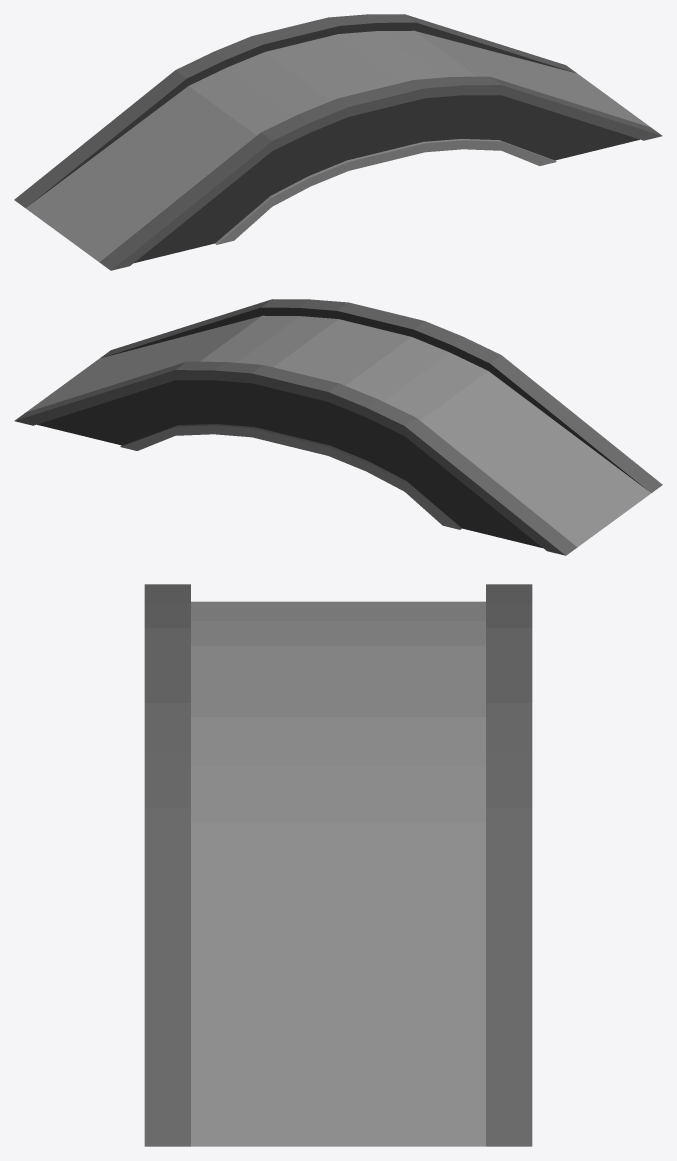
Rendered from bridge.glb.
3 views of the same model, one above another, from view 1: azimuth 30°, elevation 25°; view 2: azimuth 150°, elevation 25°; view 3: azimuth 270°, elevation 25° (orthographic). The views are drawn at different scales.
Visible parts, largest first — view 1: Cube; view 2: Cube; view 3: Cube.
Part boxes in pixels (<box>): Cube: <box>14,14,662,270</box>; Cube: <box>14,299,662,555</box>; Cube: <box>144,584,532,1146</box>.
Bounding box in the file's own units: 18.07 × 3.31 × 5.49.
1 material, 1 textured.
